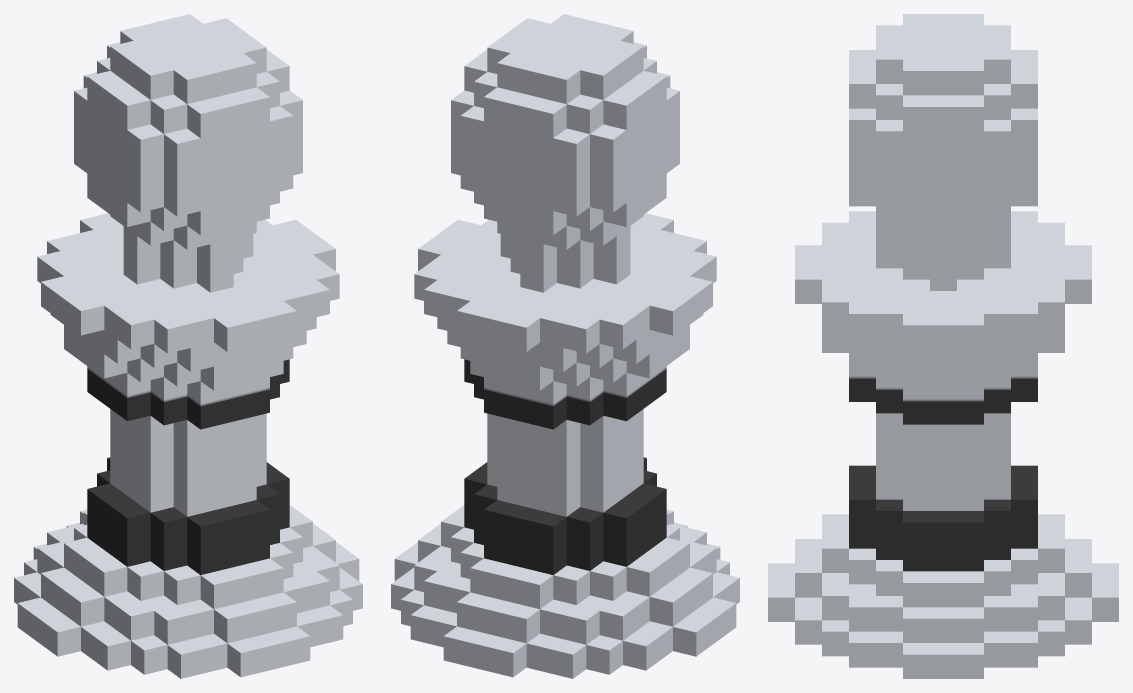
File: whiteP.dae
3 views of the same model, side by side, from view 1: azimuth 30°, elevation 25°; view 2: azimuth 150°, elevation 25°; view 3: azimuth 270°, elevation 25° (orthographic).
Parts seen in each view (by area): view 1: whiteP; view 2: whiteP; view 3: whiteP.
Part boxes in pixels (x1,y1,x2,y2): whiteP: (14,14,362,678); whiteP: (391,14,739,678); whiteP: (768,14,1118,678).
Bounding box in the file's own units: 13 × 23 × 13.
1 material, 1 textured.
